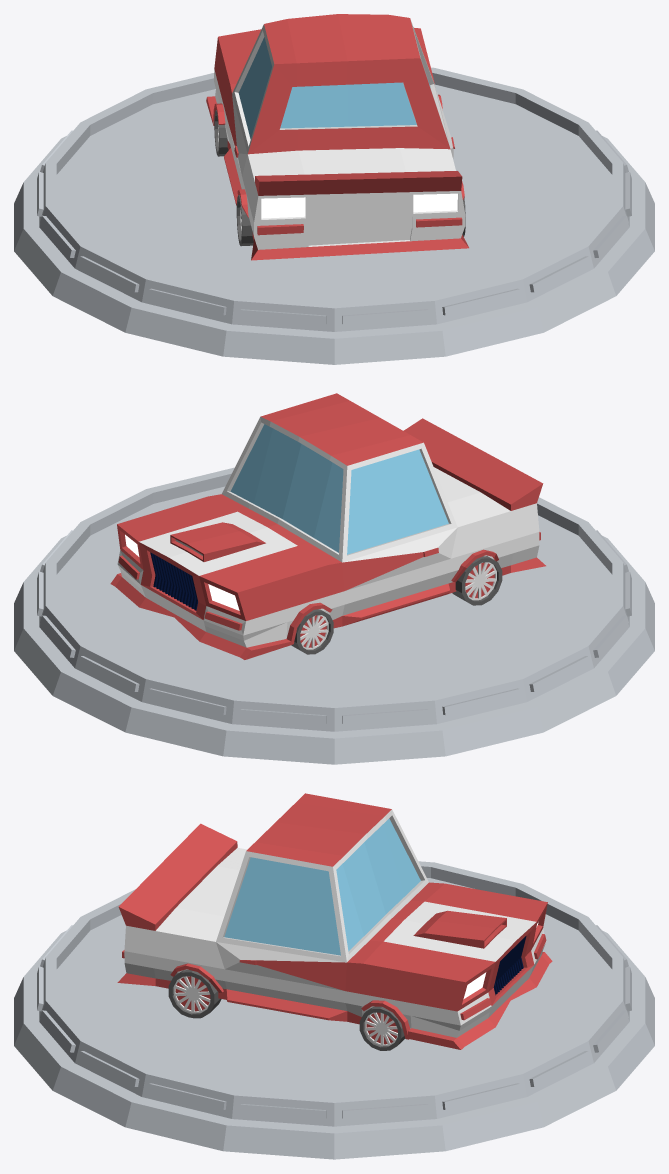
Rendered from car.gltf.
3 views of the same model, one above another, from view 1: azimuth 30°, elevation 25°; view 2: azimuth 150°, elevation 25°; view 3: azimuth 270°, elevation 25° (orthographic).
Visible parts, largest first — view 1: platform, body, backlight, wheel_1; view 2: platform, body, wheel_1, lattice_1, wheel1_1, headlight; view 3: platform, body, wheel_1, wheel1_1, lattice_1.
Boxes of the visible parts, x1,y1,x2,y2 form: platform: (14, 67, 654, 364); body: (206, 14, 468, 260); backlight: (261, 193, 457, 218); wheel_1: (236, 195, 465, 246); platform: (14, 467, 654, 764); body: (110, 393, 545, 659); wheel_1: (452, 556, 502, 605); lattice_1: (150, 552, 197, 610); wheel1_1: (291, 609, 333, 654); headlight: (125, 534, 239, 610); platform: (14, 861, 654, 1159); body: (117, 793, 552, 1049); wheel_1: (168, 970, 221, 1018); wheel1_1: (359, 1006, 405, 1050); lattice_1: (493, 936, 526, 995).
Bounding box in the file's own units: 395 × 132 × 389.
